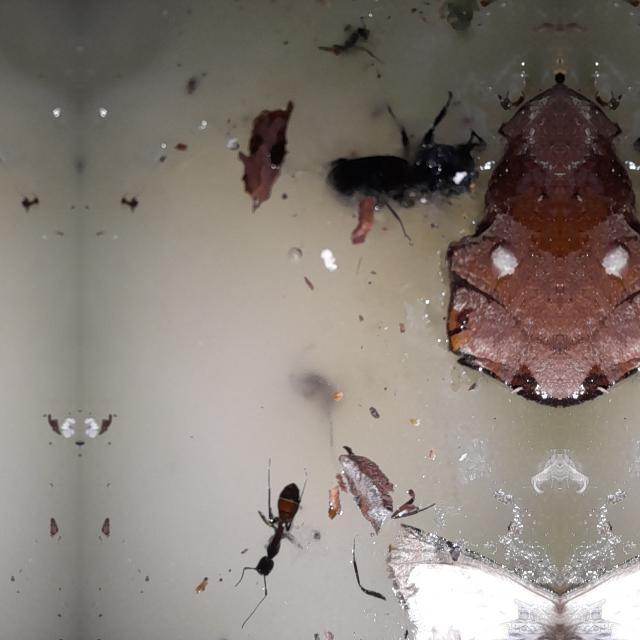Camponotus: (242, 468, 312, 598)
